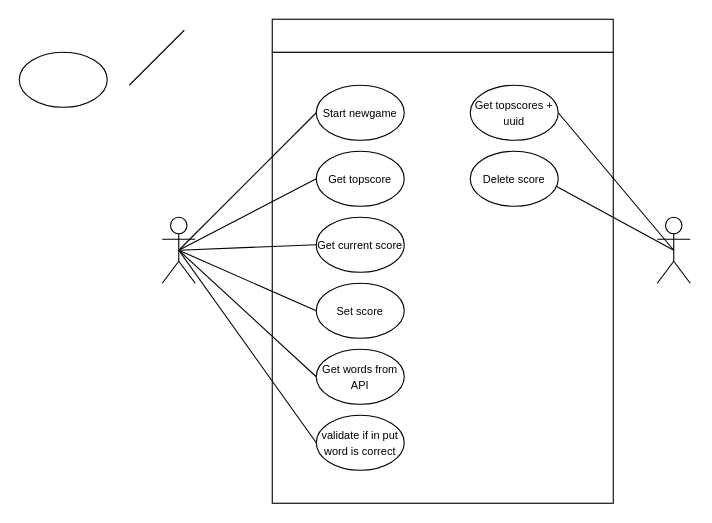
Image size: 712x523. Some labels were removed from this diagram. The box of each missing label's shape, as (x1, y1, x2, y2) in pixels:
Admin: (656, 216, 690, 283)
Lingow + leaderboard: (271, 18, 613, 52)
normal user: (161, 216, 195, 283)
text: (18, 51, 107, 107)
